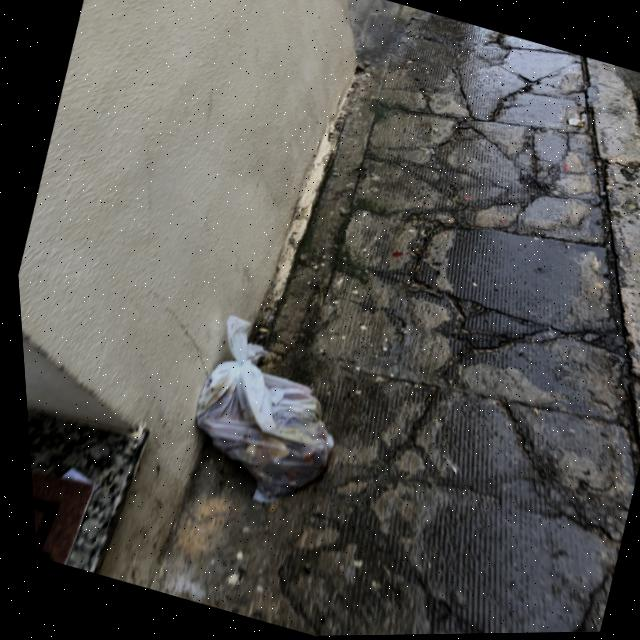Organic Waste -White Bag-: (152, 303, 375, 528)
